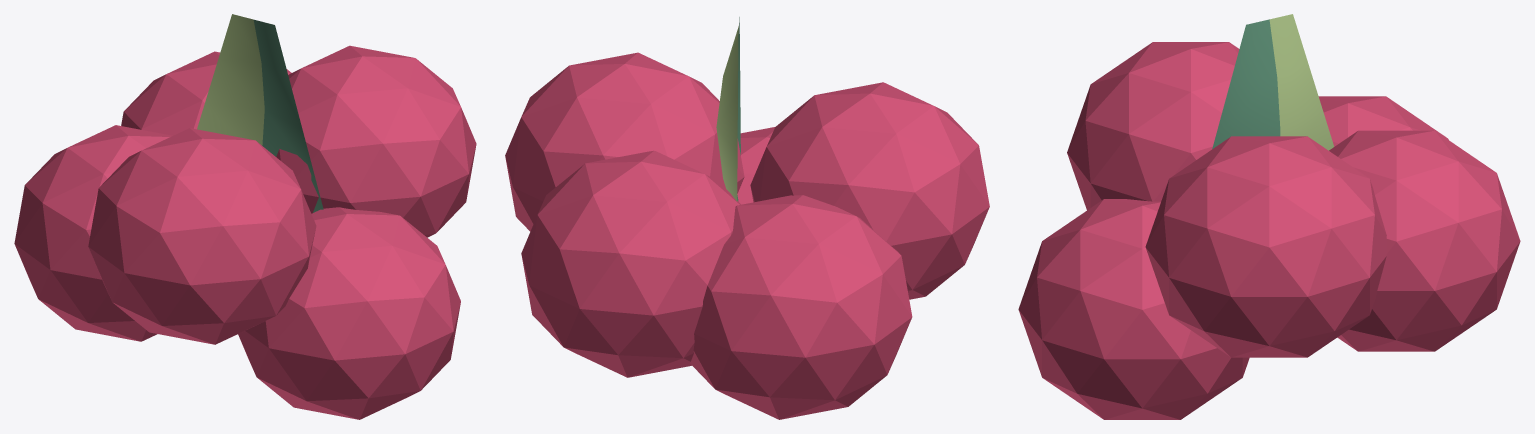
File: pickup_berry.glb
3 views of the same model, side by side, from view 1: azimuth 30°, elevation 25°; view 2: azimuth 150°, elevation 25°; view 3: azimuth 270°, elevation 25° (orthographic). The views are drawn at different scales.
Visible parts, largest first — view 1: Blessed red berry.001; view 2: Blessed red berry.001; view 3: Blessed red berry.001.
Part boxes in pixels (box(x1,y1,x2,y2)): Blessed red berry.001: box(14, 14, 476, 419); Blessed red berry.001: box(505, 17, 989, 419); Blessed red berry.001: box(1018, 14, 1520, 419).
Size of the model in its own units: 0.5005 by 0.4353 by 0.5263.
